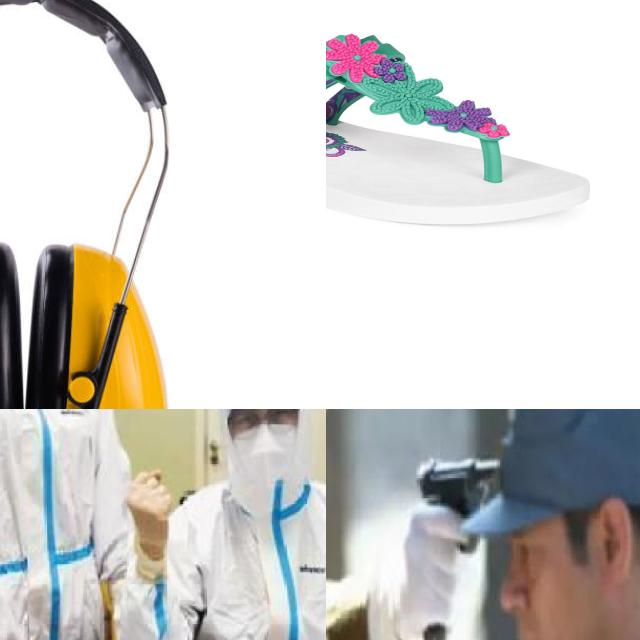Ear-protection: (0, 0, 210, 409)
No_Ear-Protection: (590, 496, 638, 586)
Sandals: (326, 32, 594, 229)
face_mask: (227, 409, 293, 495)
face_nomask: (488, 520, 580, 640)
glasses: (223, 409, 300, 441)
hand_glove: (396, 503, 468, 632), (125, 464, 169, 550)
head_nohelmet: (480, 409, 640, 538)
person: (422, 409, 640, 640), (147, 409, 326, 640), (0, 409, 147, 640), (326, 409, 448, 640)
